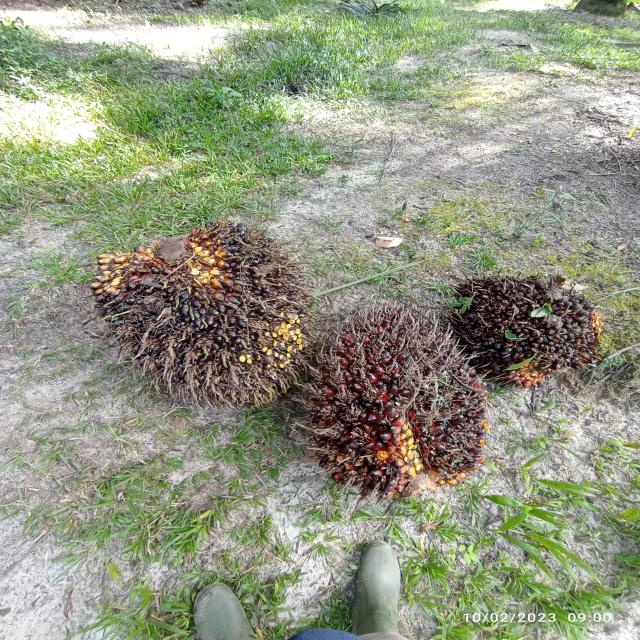fraksi 00: (68, 210, 322, 420), (425, 236, 626, 386)
fraksi 1: (284, 290, 502, 517)
